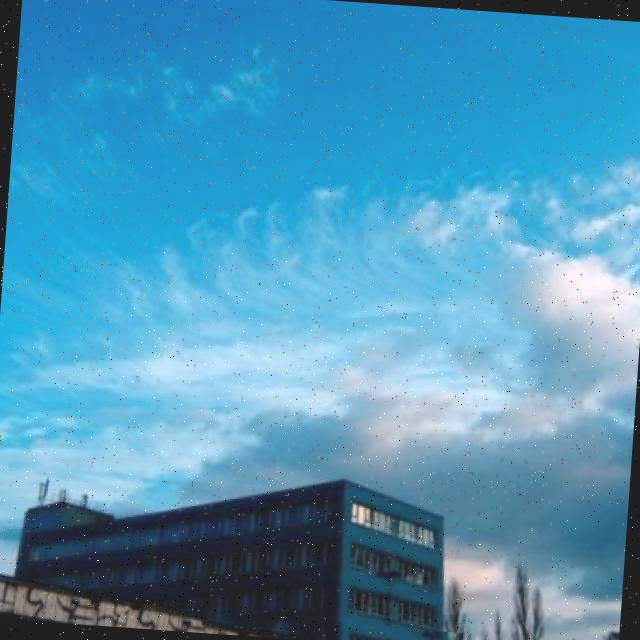Ci: (1, 70, 640, 482)
